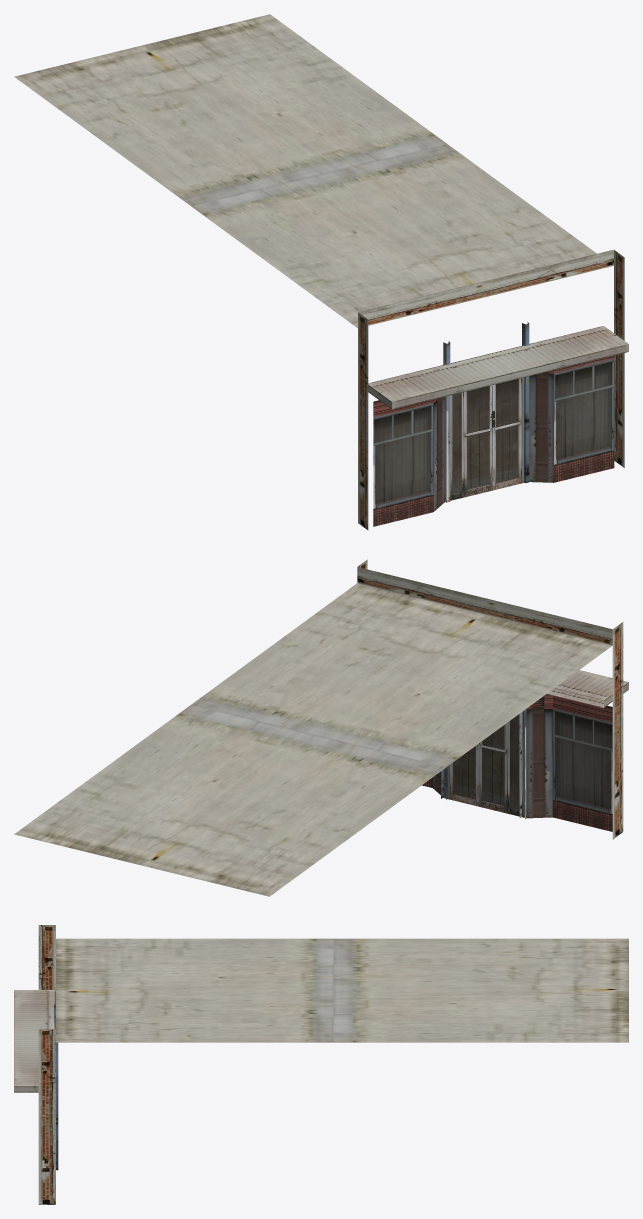
File: rural_storesmall_7_rural_facade_flr_2_0_lev2.glb
3 renders of one model, top to bottom at view 1: azimuth 30°, elevation 25°; view 2: azimuth 150°, elevation 25°; view 3: azimuth 270°, elevation 25°, orthographic. The views are drawn at different scales.
Visible parts, largest first — view 1: rural_storesmall_7_rural_facade_flr_2_0_lev2; view 2: rural_storesmall_7_rural_facade_flr_2_0_lev2; view 3: rural_storesmall_7_rural_facade_flr_2_0_lev2.
Boxes of the visible parts, x1,y1,x2,y2 form: rural_storesmall_7_rural_facade_flr_2_0_lev2: (14,14,628,530); rural_storesmall_7_rural_facade_flr_2_0_lev2: (14,559,628,896); rural_storesmall_7_rural_facade_flr_2_0_lev2: (14,925,628,1204).
Bounding box in the file's own units: 5.93 × 4.66 × 14.79.
1 material, 1 textured.
